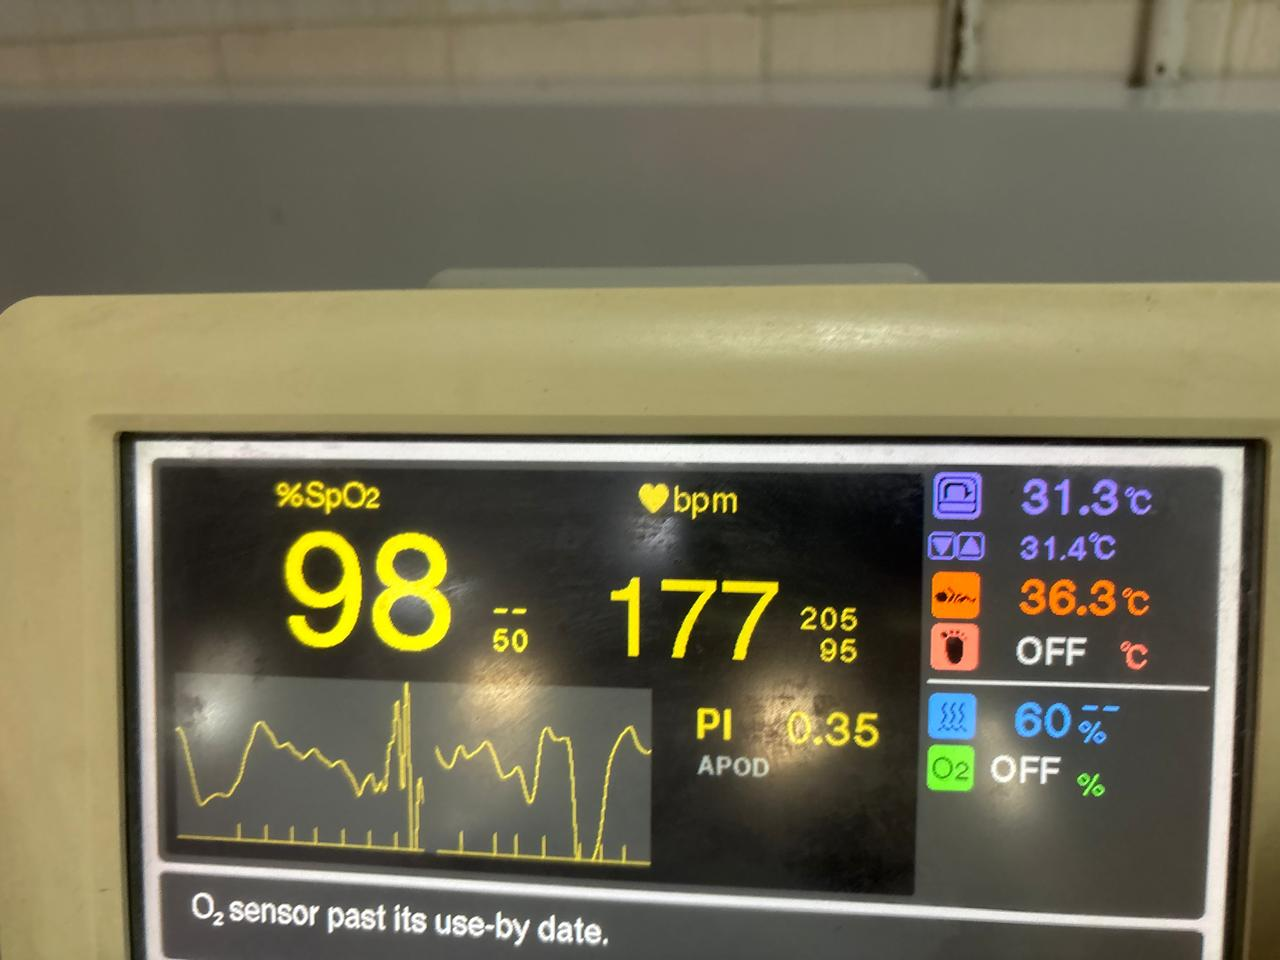heart_rate_value: (591, 567, 787, 671)
humidity_value: (1006, 694, 1075, 749)
skin_temp_value: (1004, 567, 1122, 627)
spo2_value: (269, 513, 462, 662)
